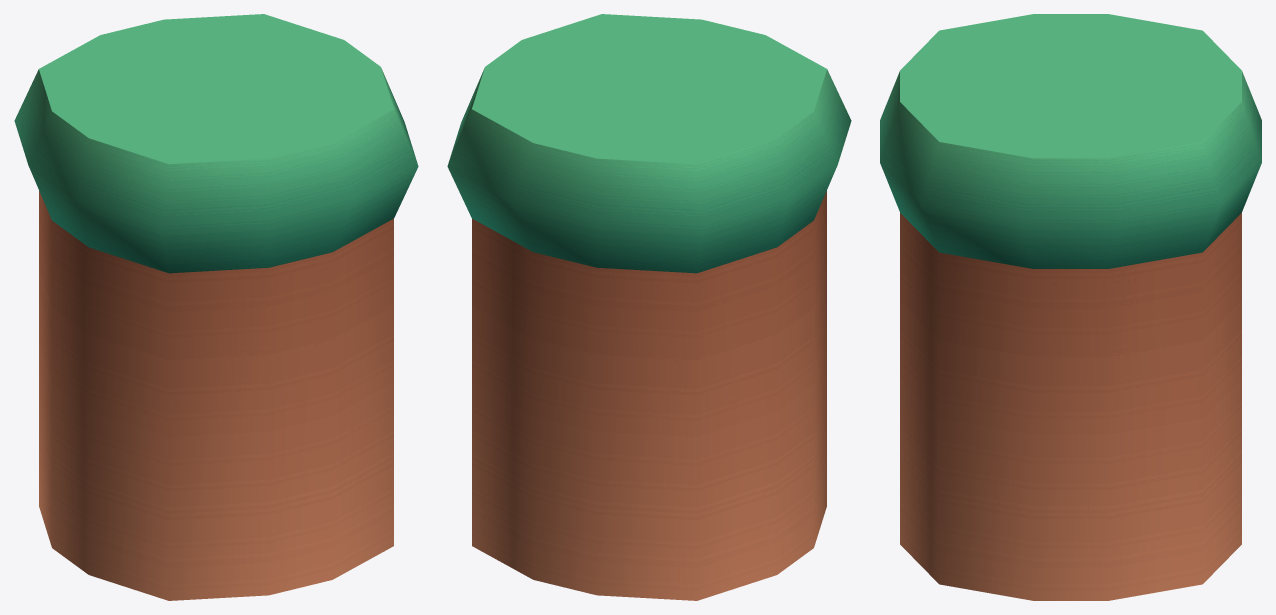
File: block-grass-narrow.glb
3 renders of one model, left to right at view 1: azimuth 30°, elevation 25°; view 2: azimuth 150°, elevation 25°; view 3: azimuth 270°, elevation 25°, orthographic.
Visible parts, largest first — view 1: block-grass-narrow; view 2: block-grass-narrow; view 3: block-grass-narrow.
Part boxes in pixels (<box>): block-grass-narrow: <box>14,14,418,600</box>; block-grass-narrow: <box>447,14,851,600</box>; block-grass-narrow: <box>880,14,1261,600</box>.
Size of the model in its own units: 0.7821 by 1 by 0.7821.
Materials: 1 (1 with a texture image).
